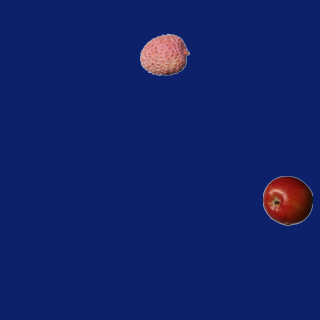Apple Braeburn: (262, 175, 312, 225)
Lychee: (139, 29, 189, 79)
